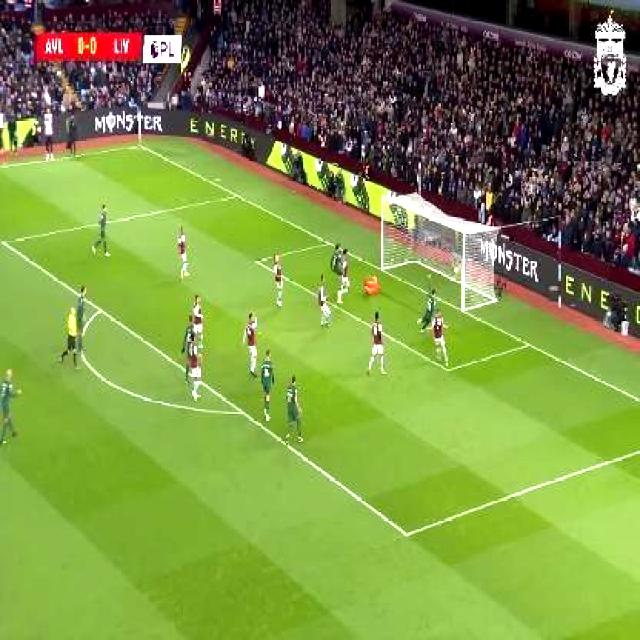bigarea_bottom_inner: (395, 517, 417, 548)
bigarea_top_inner: (0, 231, 11, 251)
bigarea_top_outter: (229, 186, 243, 203)
bottom_arc_area_intersection: (232, 400, 251, 423)
corner: (129, 137, 148, 151)
smallarea_bottom_inner: (437, 354, 455, 380)
smallarea_bottom_outter: (518, 332, 537, 354)
smallarea_top_inner: (248, 249, 264, 269)
smallarea_top_outter: (320, 232, 337, 252)
top_arc_area_intersection: (90, 300, 108, 318)
